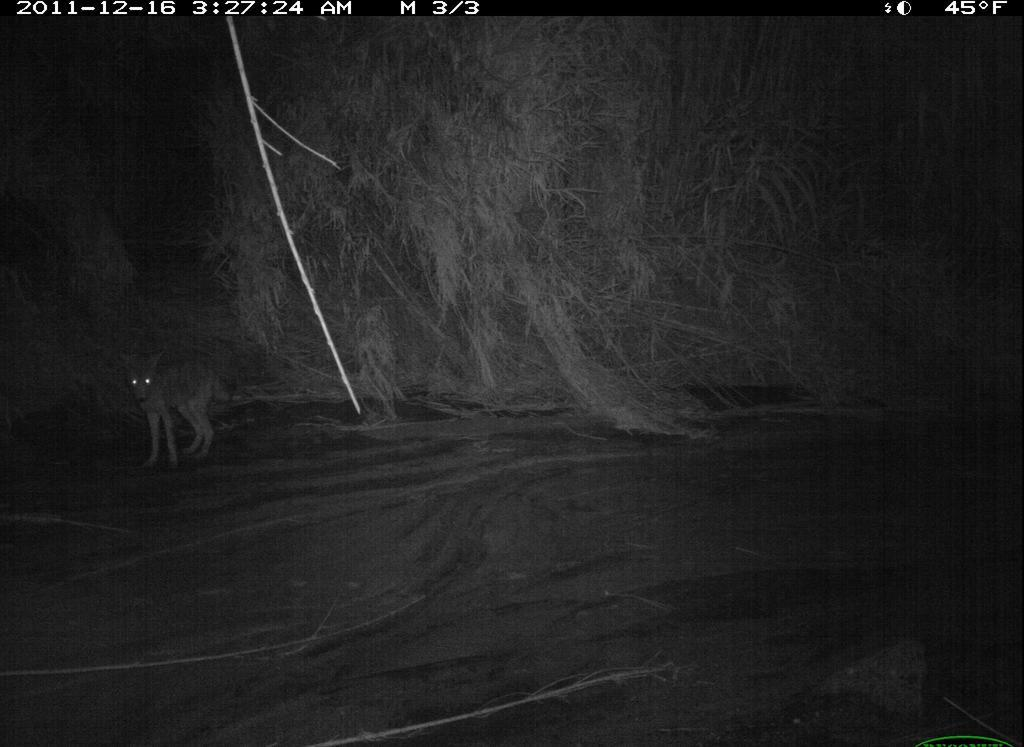coyote: (114, 347, 253, 482)
